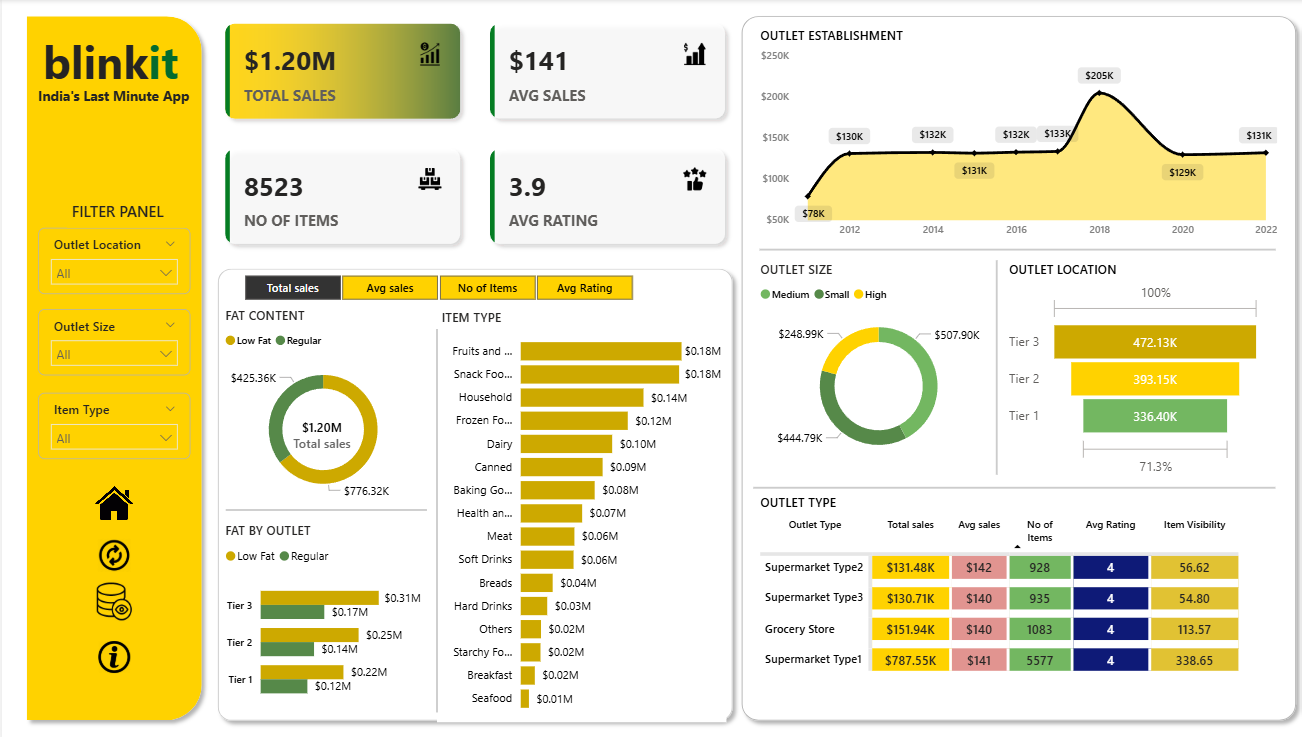

This screenshot's page, from the dashboard's own definition file:
{"tool":"powerbi","page":{"name":"Page 1","canvas":[1400,800],"ordinal":0},"visuals":[{"type":"shape","box":[17.1,10,205.7,772.9],"z":0},{"type":"textbox","box":[32.9,88.6,174.3,30],"z":1000},{"type":"textbox","box":[38.6,30,164.3,74.3],"z":2000},{"type":"cardVisual","fields":{"Data":["BlinkIT Grocery Data.Total sales","BlinkIT Grocery Data.Avarage","BlinkIT Grocery Data.No of Items","BlinkIT Grocery Data.Avg Rating"]},"box":[222.9,10,570,270],"z":3000},{"type":"shape","box":[222.9,280,570,502.9],"z":4000},{"type":"donutChart","title":"FAT CONTENT","fields":{"Y":["BlinkIT Grocery Data.Total sales"],"Category":["BlinkIT Grocery Data.Item Fat Content"]},"box":[234.3,330,220,218.6],"z":5000},{"type":"slicer","fields":{"Values":["Metrics.Metrics"]},"box":[234.3,290,465.7,40],"z":6000},{"type":"cardVisual","fields":{"Data":["BlinkIT Grocery Data.Total sales"]},"box":[292.9,431.4,102.9,72.9],"z":7000},{"type":"clusteredBarChart","title":"FAT BY OUTLET","fields":{"Y":["BlinkIT Grocery Data.Total sales"],"Category":["BlinkIT Grocery Data.Outlet Location Type"],"Series":["BlinkIT Grocery Data.Item Fat Content"]},"box":[234.3,560,220,207.1],"z":8000},{"type":"clusteredBarChart","title":"ITEM TYPE","fields":{"Y":["BlinkIT Grocery Data.Total sales"],"Category":["BlinkIT Grocery Data.Item Type"]},"box":[467.1,332.9,310,442.9],"z":9000},{"type":"shape","box":[240,541.4,215.7,12.9],"z":10000},{"type":"shape","box":[455.8,353.9,21.4,411.5],"z":11000},{"type":"shape","box":[784.2,9.4,612.6,773.5],"z":12000},{"type":"lineChart","title":"OUTLET ESTABLISHMENT","fields":{"Category":["BlinkIT Grocery Data.Outlet Establishment Year"],"Y":["BlinkIT Grocery Data.Total sales"]},"box":[808.6,30,564.3,235],"z":13000},{"type":"shape","box":[812.3,257.4,553.6,22.8],"z":14000},{"type":"donutChart","title":"OUTLET SIZE","fields":{"Y":["BlinkIT Grocery Data.Total sales"],"Category":["BlinkIT Grocery Data.Outlet Size"]},"box":[808.6,280,264,225],"z":15000},{"type":"shape","box":[1060,280,12.9,230],"z":16000},{"type":"funnel","title":"OUTLET LOCATION","fields":{"Category":["BlinkIT Grocery Data.Outlet Location Type"],"Y":["Sum(BlinkIT Grocery Data.Sales)"]},"box":[1075.7,280,280,237.1],"z":17000},{"type":"shape","box":[805.6,517.4,560.3,13.4],"z":18000},{"type":"pivotTable","title":"OUTLET TYPE","fields":{"Rows":["BlinkIT Grocery Data.Outlet Type"],"Values":["BlinkIT Grocery Data.Total sales","BlinkIT Grocery Data.Avg sales","BlinkIT Grocery Data.No of Items","BlinkIT Grocery Data.Avg Rating","Sum(BlinkIT Grocery Data.Item Visibility)"]},"box":[808.3,530.8,557.6,223.9],"z":19000},{"type":"slicer","fields":{"Values":["BlinkIT Grocery Data.Outlet Location Type"]},"box":[38.9,245.3,163.5,71],"z":20000},{"type":"slicer","fields":{"Values":["BlinkIT Grocery Data.Outlet Size"]},"box":[38.9,332.4,163.5,71],"z":21000},{"type":"slicer","fields":{"Values":["BlinkIT Grocery Data.Item Type"]},"box":[38.9,422.3,163.5,71],"z":22000},{"type":"textbox","box":[69.7,211.8,132.7,33.5],"z":23000},{"type":"image","box":[95.2,517.4,50.9,46.9],"z":24000},{"type":"image","box":[95.2,573.7,50.9,45.6],"z":24001},{"type":"image","box":[95.2,619.3,50.9,53.6],"z":24002},{"type":"image","box":[95.2,683.6,50.9,44.2],"z":24003}]}

Visuals, with their boxes in screenshot pixels (x1, y1, x2, y2), scaled from the page's 1400x800 canvas onto the 1302x737 screenshot:
shape: bbox=(16, 9, 207, 721)
textbox: bbox=(31, 82, 193, 109)
textbox: bbox=(36, 28, 189, 96)
cardVisual - BlinkIT Grocery Data.Total sales x BlinkIT Grocery Data.Avarage: bbox=(207, 9, 737, 258)
shape: bbox=(207, 258, 737, 721)
"FAT CONTENT" donutChart: bbox=(218, 304, 422, 505)
slicer - Metrics.Metrics: bbox=(218, 267, 651, 304)
cardVisual - BlinkIT Grocery Data.Total sales: bbox=(272, 397, 368, 465)
"FAT BY OUTLET" clusteredBarChart: bbox=(218, 516, 422, 707)
"ITEM TYPE" clusteredBarChart: bbox=(434, 307, 723, 715)
shape: bbox=(223, 499, 424, 511)
shape: bbox=(424, 326, 444, 705)
shape: bbox=(729, 9, 1299, 721)
"OUTLET ESTABLISHMENT" lineChart: bbox=(752, 28, 1277, 244)
shape: bbox=(755, 237, 1270, 258)
"OUTLET SIZE" donutChart: bbox=(752, 258, 998, 465)
shape: bbox=(986, 258, 998, 470)
"OUTLET LOCATION" funnel: bbox=(1000, 258, 1261, 476)
shape: bbox=(749, 477, 1270, 489)
"OUTLET TYPE" pivotTable: bbox=(752, 489, 1270, 695)
slicer - BlinkIT Grocery Data.Outlet Location Type: bbox=(36, 226, 188, 291)
slicer - BlinkIT Grocery Data.Outlet Size: bbox=(36, 306, 188, 372)
slicer - BlinkIT Grocery Data.Item Type: bbox=(36, 389, 188, 454)
textbox: bbox=(65, 195, 188, 226)
image: bbox=(89, 477, 136, 520)
image: bbox=(89, 529, 136, 571)
image: bbox=(89, 571, 136, 620)
image: bbox=(89, 630, 136, 670)
